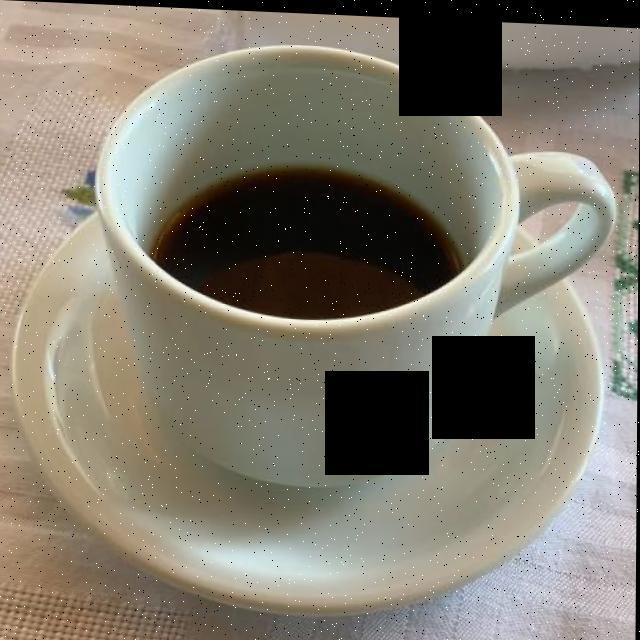coffee: (153, 163, 463, 314)
